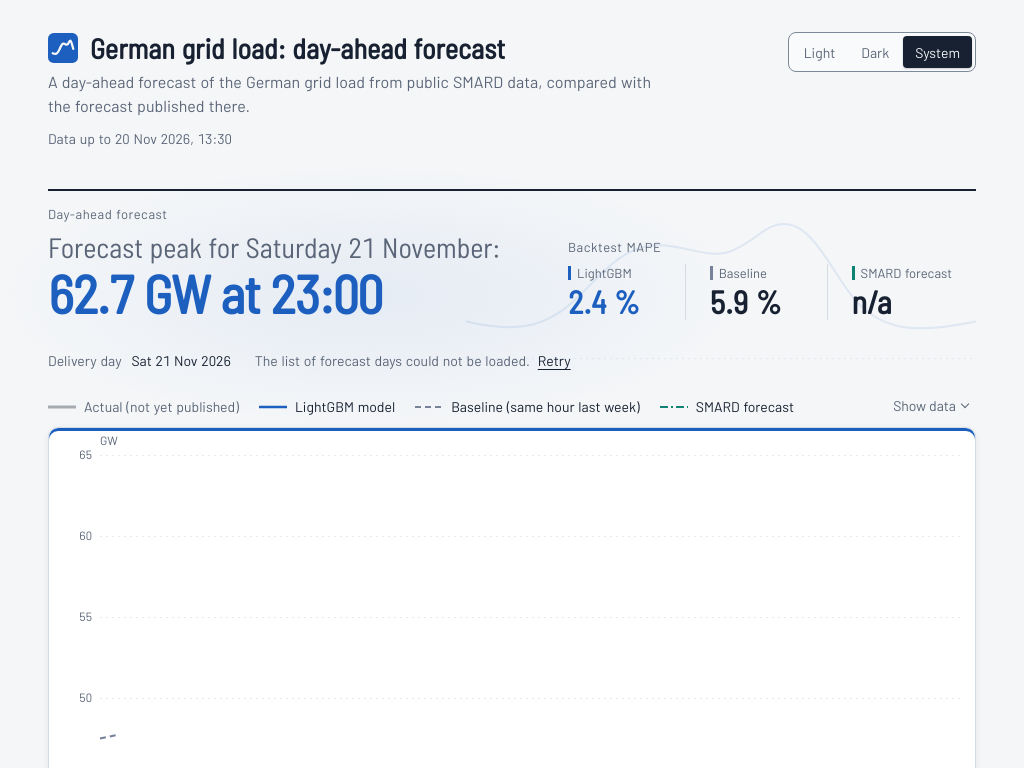
Test: Dashboard states › falls back to the latest forecast when the day list fails
Expected: the text "The list of forecast days could not be loaded. Retry" is shown, [255,340,575,380]
Expected: the text "Forecast peak for Saturday 21 November: 62.7 GW at 23:00" is shown, [48,231,500,320]
What coordinates should you click on to do the following:
click the button "Retry"
I would click on:
 (554, 360)
Its box is [534,340,575,380].
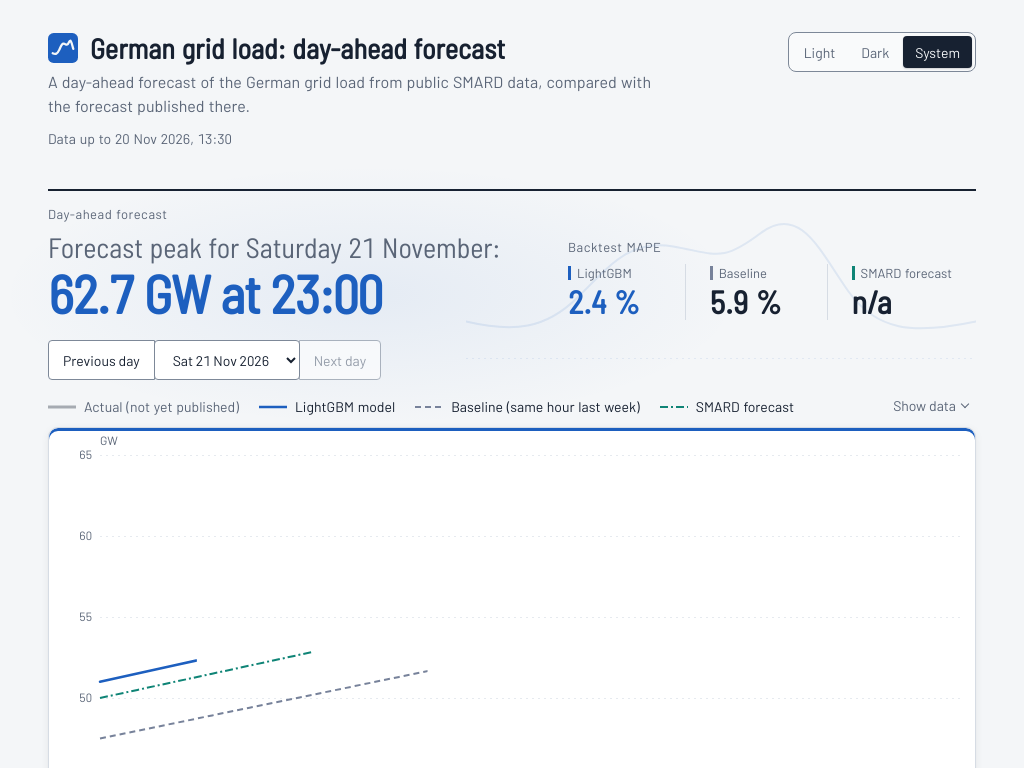
Expected: the button "Previous day" is enabled, [48,340,155,380]
